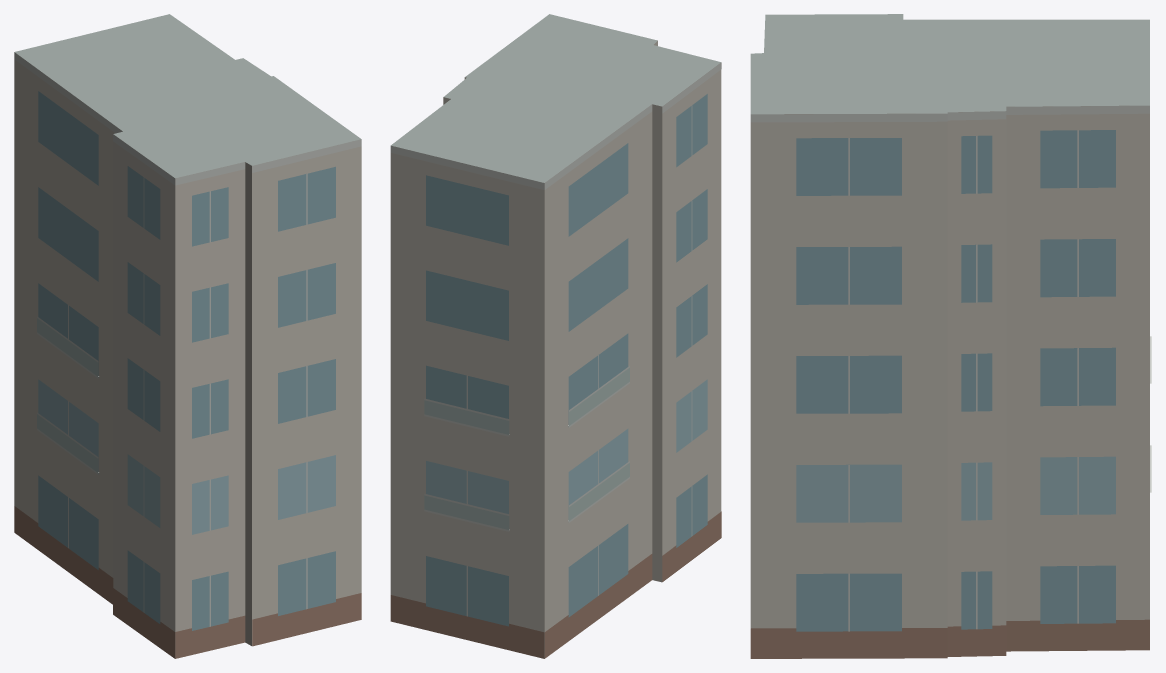
The model's file is survey-upis-32469963.glb.
The picture shows the model from 3 angles, left to right: view 1: azimuth 30°, elevation 25°; view 2: azimuth 150°, elevation 25°; view 3: azimuth 270°, elevation 25°; orthographic projection. The views are drawn at different scales.
Parts seen in each view (by area): view 1: survey-upis-32469963.tmp; view 2: survey-upis-32469963.tmp; view 3: survey-upis-32469963.tmp.
Part boxes in pixels (x1,y1,x2,y2): survey-upis-32469963.tmp: [14, 14, 361, 658]; survey-upis-32469963.tmp: [390, 14, 721, 658]; survey-upis-32469963.tmp: [750, 14, 1151, 658].
Size of the model in its own units: 6.4 by 16.2 by 10.81.
